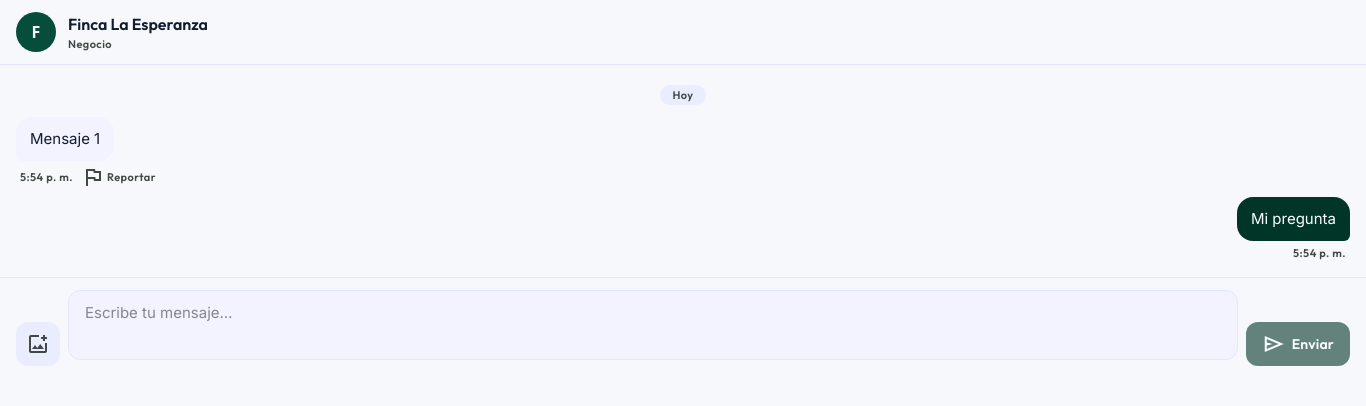
HiloConversacion › si no se puede enviar, el motivo del servidor aparece y el texto se conserva
The image size is (1366, 406).
expect the text "Mensaje 1" is shown: met, box [30, 127, 100, 151]
Type "Otro más" into the text box labelled "Escribe tu mensaje" at (653, 325), box [68, 290, 1238, 360]
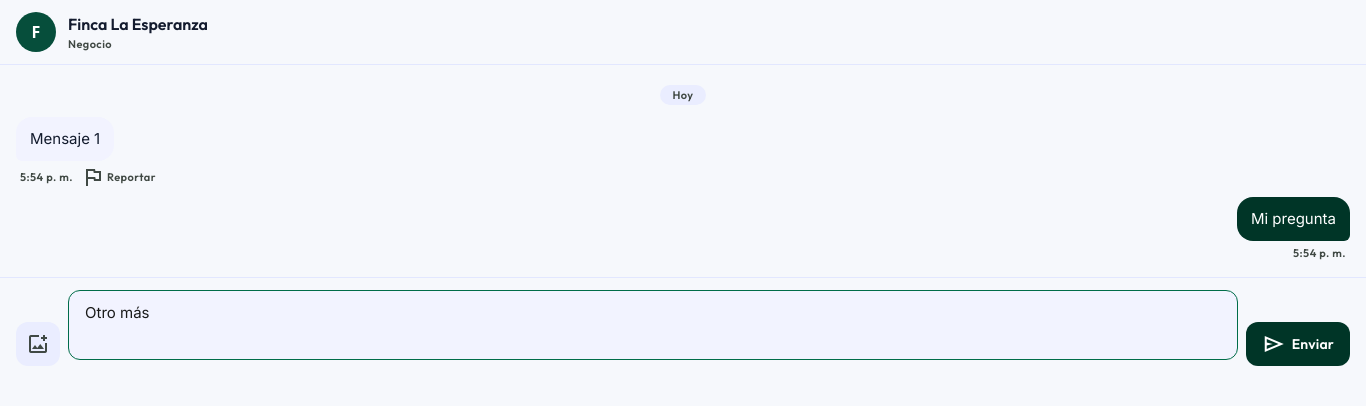
Click the button "Enviar" at (1298, 344), box [1246, 322, 1350, 366]
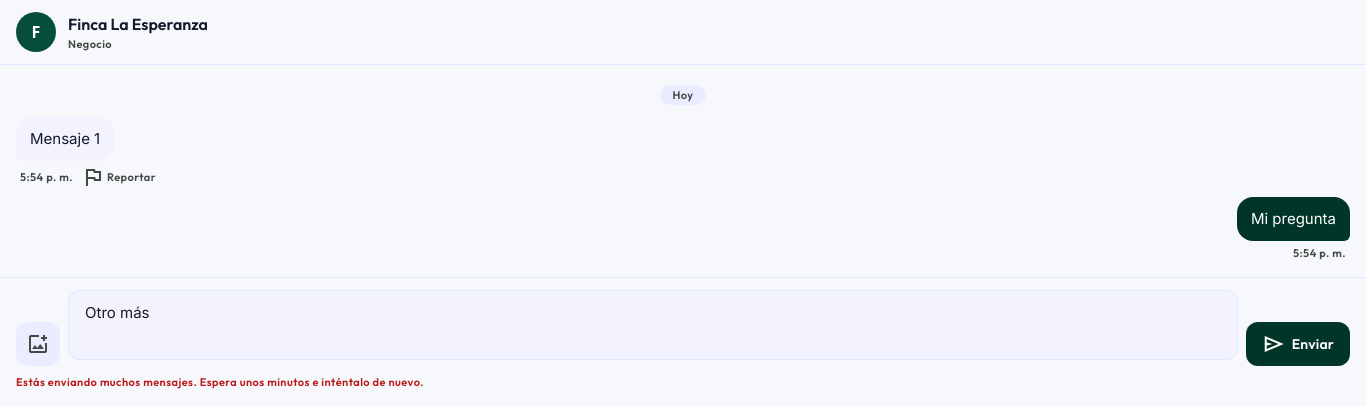
expect the message shows "Estás enviando muchos mensajes": met, box [16, 375, 424, 389]
